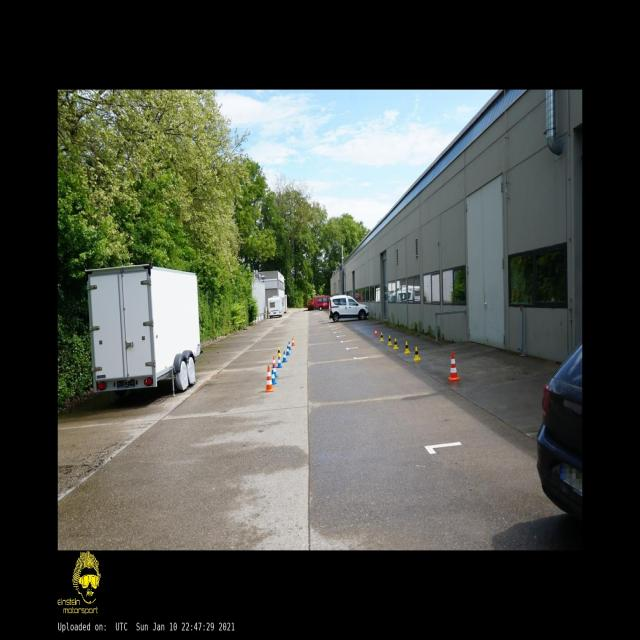blue_cone: (271, 370, 277, 385), (273, 364, 278, 378), (277, 356, 282, 368), (282, 351, 287, 362), (286, 346, 290, 356), (288, 341, 292, 350)
large_orange_cone: (447, 351, 460, 382), (264, 366, 274, 392)
orange_cone: (272, 356, 276, 368), (291, 338, 295, 346), (375, 328, 378, 337)
yellow_cone: (414, 347, 421, 361), (404, 341, 410, 354), (276, 347, 282, 357), (394, 338, 398, 349), (388, 336, 392, 346), (380, 332, 384, 342)
